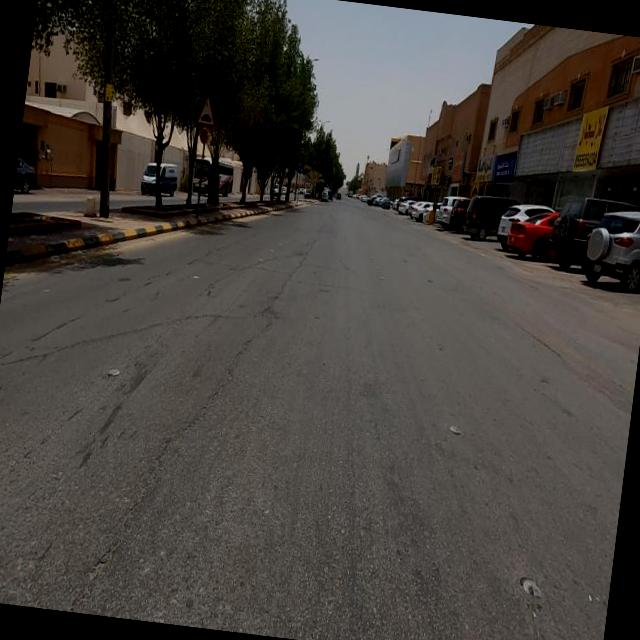debris: (472, 98, 622, 220), (555, 52, 640, 220)
